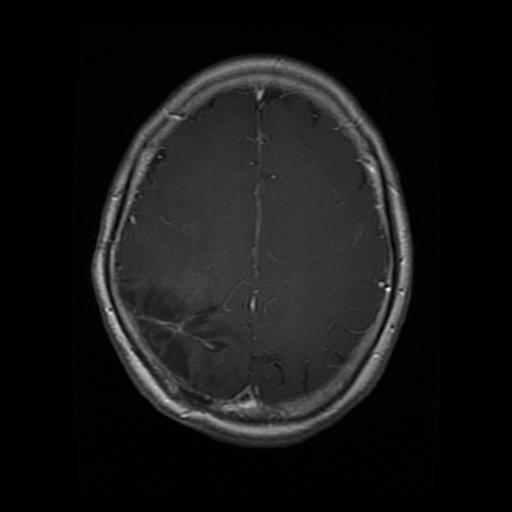Gliomia_tumour: (121, 278, 230, 384)
